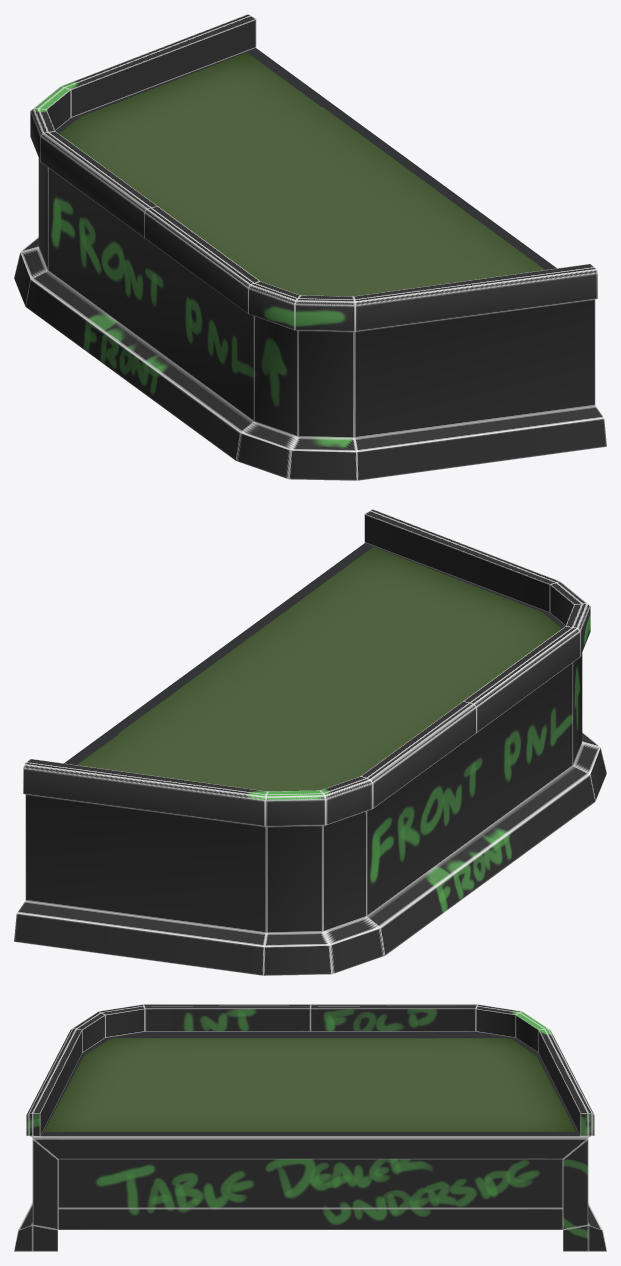
File: CardTable.fbx
3 views of the same model, one above another, from view 1: azimuth 30°, elevation 25°; view 2: azimuth 150°, elevation 25°; view 3: azimuth 270°, elevation 25° (orthographic). The views are drawn at different scales.
Parts seen in each view (by area): view 1: CardTable; view 2: CardTable; view 3: CardTable.
Part boxes in pixels (<box>): CardTable: <box>14,14,606,480</box>; CardTable: <box>14,509,606,975</box>; CardTable: <box>14,1004,606,1251</box>.
Bounding box in the file's own units: 215 × 120 × 467.
